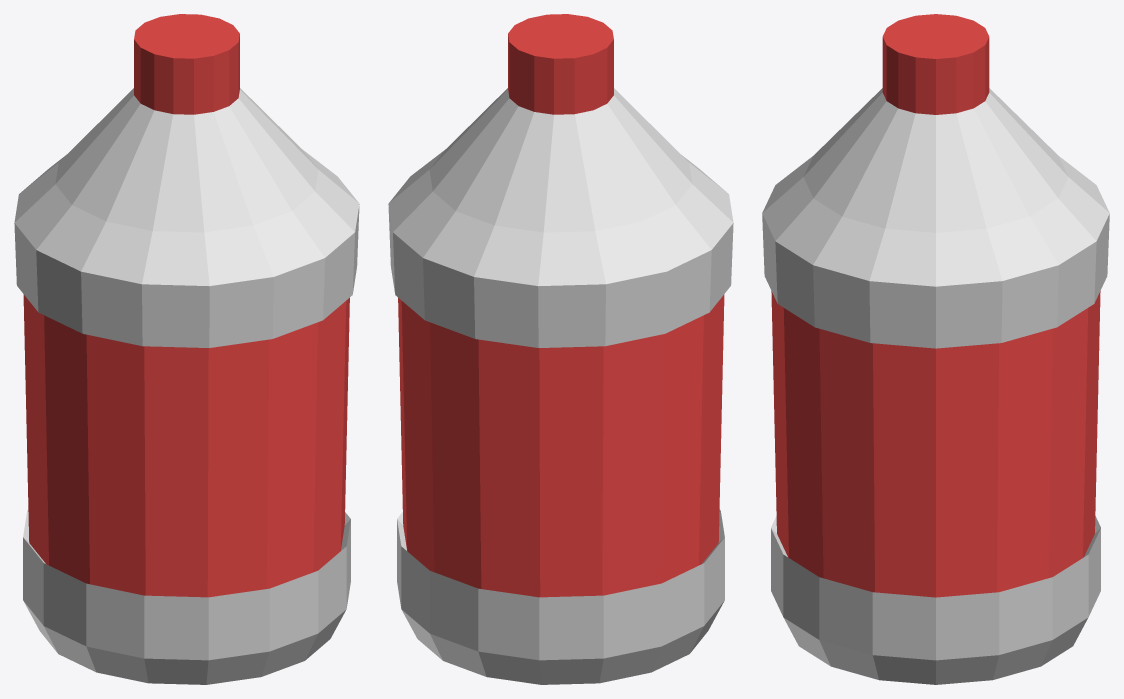
The model's file is red_bottle.glb.
3 renders of one model, left to right at view 1: azimuth 30°, elevation 25°; view 2: azimuth 150°, elevation 25°; view 3: azimuth 270°, elevation 25°, orthographic.
Visible parts, largest first — view 1: Cylinder.009; view 2: Cylinder.009; view 3: Cylinder.009.
Part boxes in pixels (bbox=[...]): Cylinder.009: bbox=[14, 14, 359, 684]; Cylinder.009: bbox=[388, 14, 733, 684]; Cylinder.009: bbox=[762, 14, 1109, 684].
Size of the model in its own units: 3.5 by 6.51 by 3.5.
